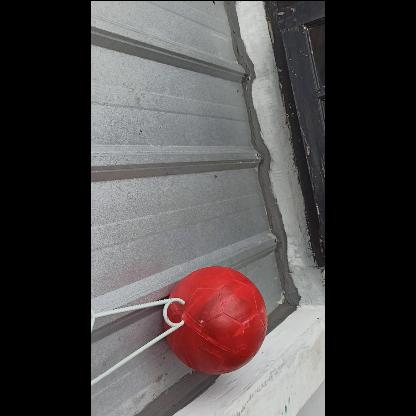red_ball: (163, 264, 270, 371)
